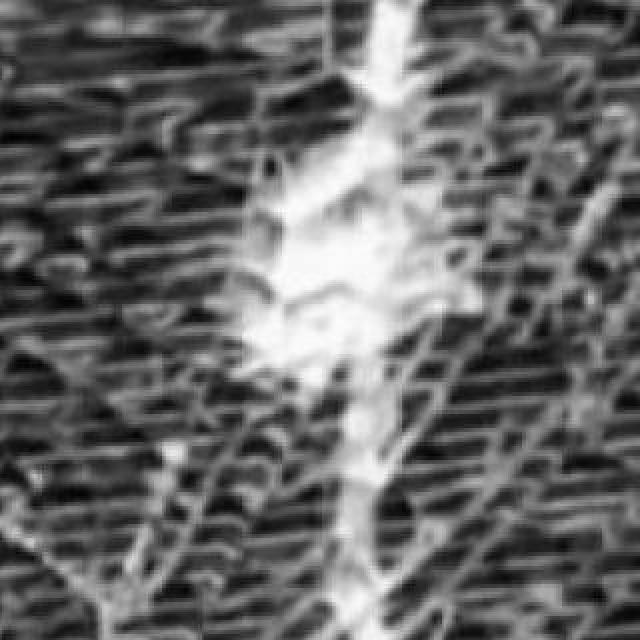Physical-damage: (0, 0, 640, 637)
